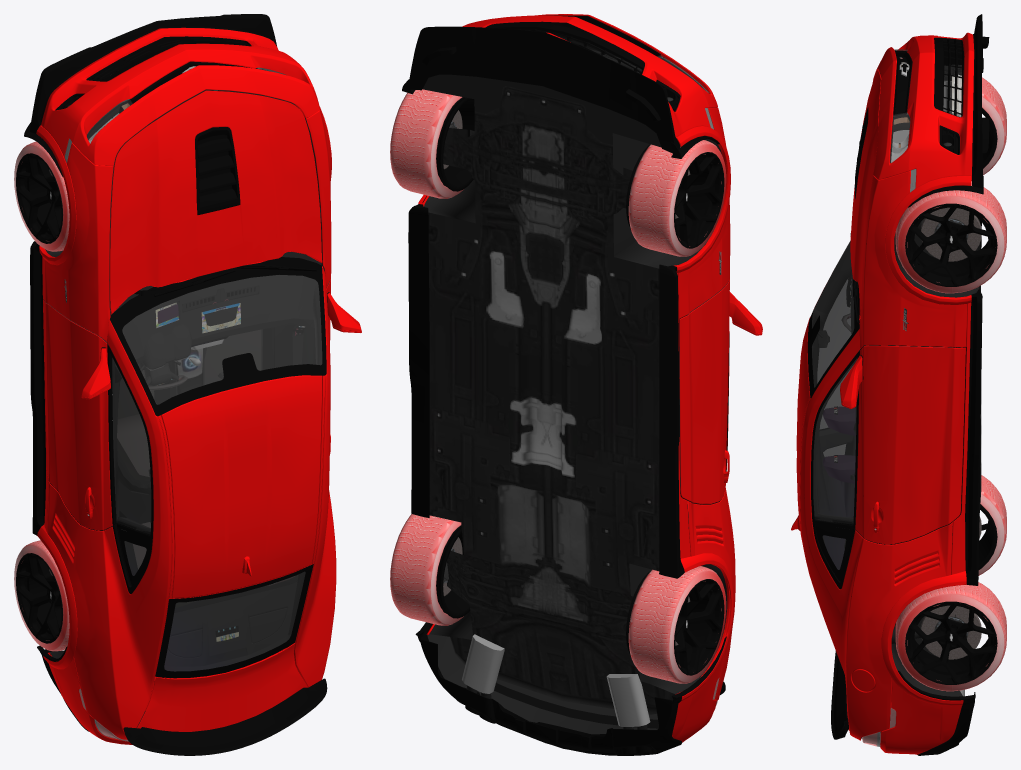
File: 2014_chevrolet_camaro_z28.fbx
3 renders of one model, left to right at view 1: azimuth 30°, elevation 25°; view 2: azimuth 150°, elevation 25°; view 3: azimuth 270°, elevation 25°, orthographic. The views are drawn at different scales.
Visible parts, largest first — view 1: Glass 6_10, Hood 1_102, Chassis 7_5, Interior 5_11, FendersR 6_32, BumperF 6_94, DoorL 4_6, FenderFL 6_40, Boot 1_86, Spoiler 1_90, DoorL_Glass 4_7, Splitter 1_98 (+11 smaller); view 2: Chassis 7_5, Splitter 1_98, Skirts 1_36, DoorL 4_6, BumperChassisR 6_28, BumperF 6_94, Diffuser 1_82, Tire_Regular_S_FL 1_133, Tire_Regular_S_FL 1_107, Tire_Regular_S_FL 1_146, Tire_Regular_S_FL 1_120, FendersR 6_32 (+9 smaller); view 3: DoorR 4_8, FendersR 6_32, BumperF 6_94, FenderFR 6_44, Interior 5_11, Glass 6_10, Skirts 1_36, DoorR_Glass 4_9, WheelFL 6_150, WheelFL 6_124, Tire_Regular_S_FL 1_146, BumperR 6_74 (+18 smaller).
Boxes of the visible parts, left/top/right/bottom form: Glass 6_10: left=110, top=257, right=326, bottom=678; Hood 1_102: left=110, top=90, right=322, bottom=314; Chassis 7_5: left=109, top=89, right=325, bottom=676; Interior 5_11: left=46, top=275, right=321, bottom=671; FendersR 6_32: left=37, top=266, right=336, bottom=739; BumperF 6_94: left=41, top=27, right=319, bottom=165; DoorL 4_6: left=43, top=299, right=122, bottom=530; FenderFL 6_40: left=24, top=122, right=113, bottom=341; Boot 1_86: left=126, top=643, right=307, bottom=739; Spoiler 1_90: left=123, top=678, right=327, bottom=755; DoorL_Glass 4_7: left=112, top=358, right=151, bottom=534; Splitter 1_98: left=29, top=14, right=276, bottom=133; Chassis 7_5: left=422, top=74, right=729, bottom=680; Splitter 1_98: left=409, top=26, right=680, bottom=153; Skirts 1_36: left=408, top=204, right=690, bottom=578; DoorL 4_6: left=679, top=279, right=729, bottom=503; BumperChassisR 6_28: left=429, top=611, right=724, bottom=728; BumperF 6_94: left=462, top=14, right=717, bottom=137; Diffuser 1_82: left=420, top=635, right=682, bottom=755; Tire_Regular_S_FL 1_133: left=628, top=566, right=726, bottom=683; Tire_Regular_S_FL 1_107: left=628, top=140, right=726, bottom=256; Tire_Regular_S_FL 1_146: left=390, top=514, right=463, bottom=625; Tire_Regular_S_FL 1_120: left=390, top=89, right=463, bottom=198; FendersR 6_32: left=415, top=331, right=735, bottom=703; DoorR 4_8: left=853, top=345, right=965, bottom=544; FendersR 6_32: left=800, top=283, right=975, bottom=740; BumperF 6_94: left=873, top=32, right=974, bottom=192; FenderFR 6_44: left=859, top=170, right=983, bottom=348; Interior 5_11: left=812, top=242, right=966, bottom=569; Glass 6_10: left=807, top=240, right=859, bottom=580; Skirts 1_36: left=951, top=220, right=982, bottom=585; DoorR_Glass 4_9: left=813, top=358, right=857, bottom=524; WheelFL 6_150: left=905, top=601, right=997, bottom=684; WheelFL 6_124: left=905, top=203, right=997, bottom=286; Tire_Regular_S_FL 1_146: left=895, top=582, right=1006, bottom=691; BumperR 6_74: left=880, top=679, right=961, bottom=754.
Bounding box in the file's own units: 2.08 × 4.89 × 1.4.
22 materials, 8 textured.
